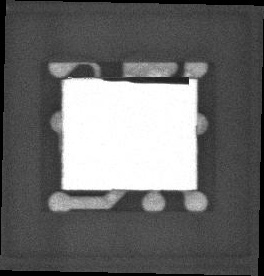DIE_BROKEN: (101, 74, 192, 87)
